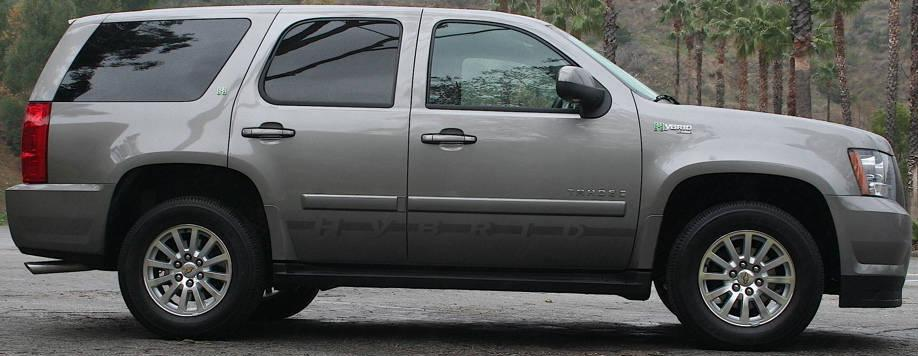backlight: (14, 97, 59, 189)
headlight: (837, 134, 906, 211)
side_glass: (65, 13, 600, 127)
